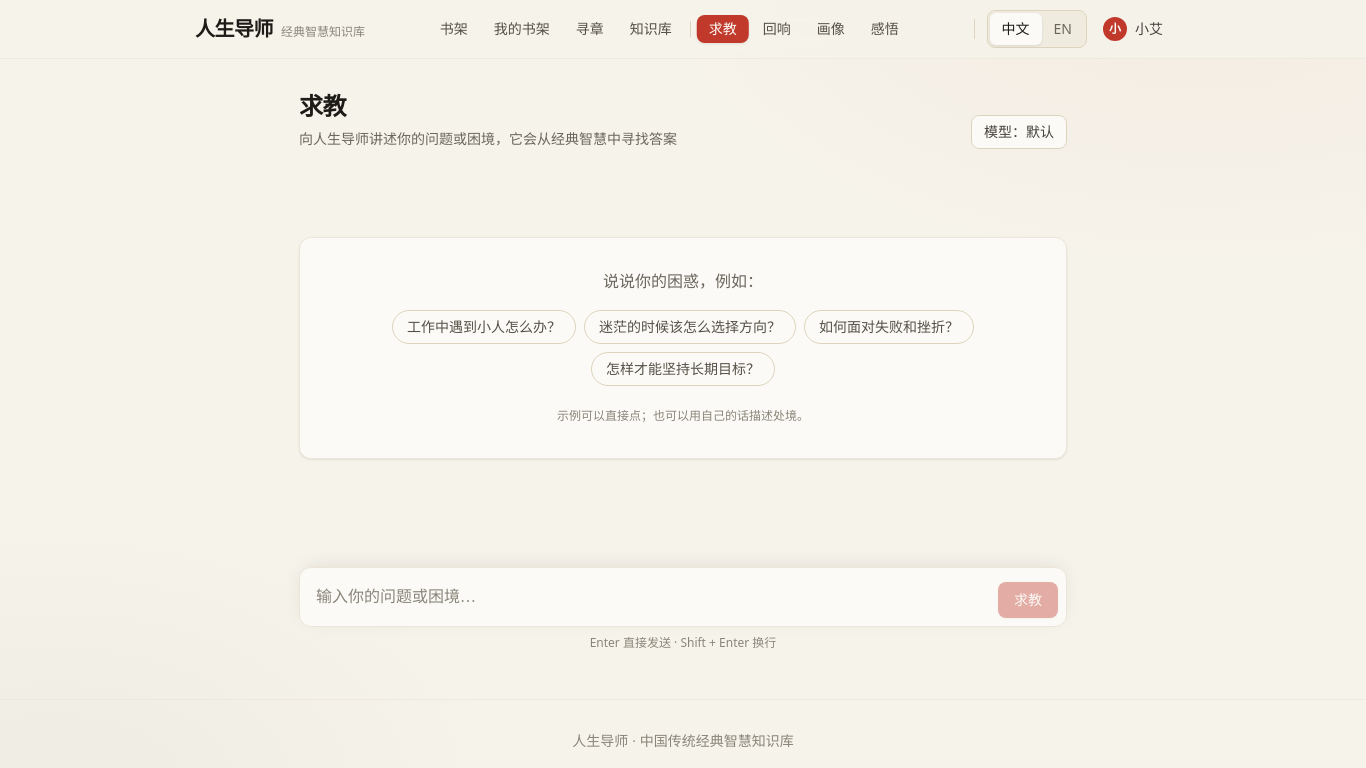
问答流程 › 提问后展示回答
The width and height of the screenshot is (1366, 768).
Type "如何面对挫折" into the text box with placeholder "输入你的问题或困境…".
click(653, 597); type("如何面对挫折")  # box x1=316 y1=576 x2=990 y2=618
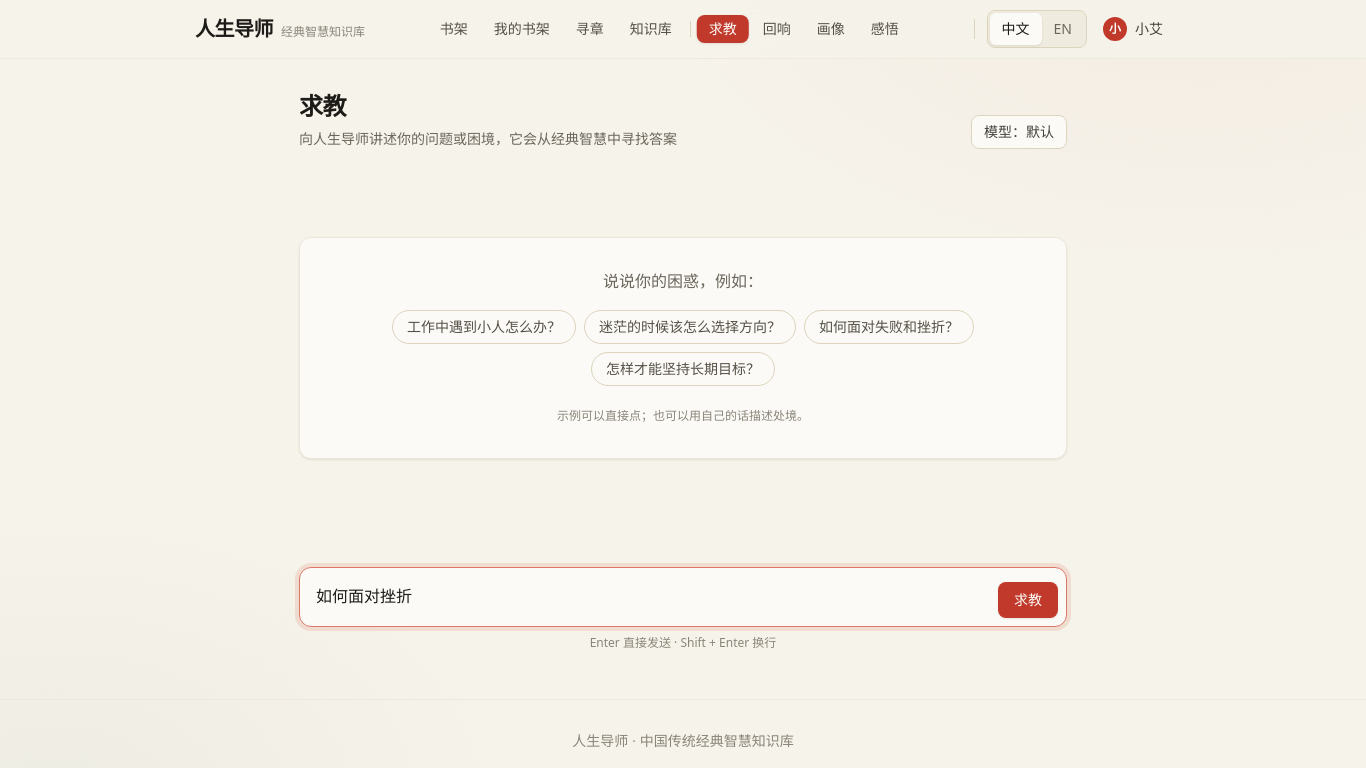
Click the button "求教".
click(1028, 600)  # box x1=998 y1=582 x2=1058 y2=618
(page scrolled)
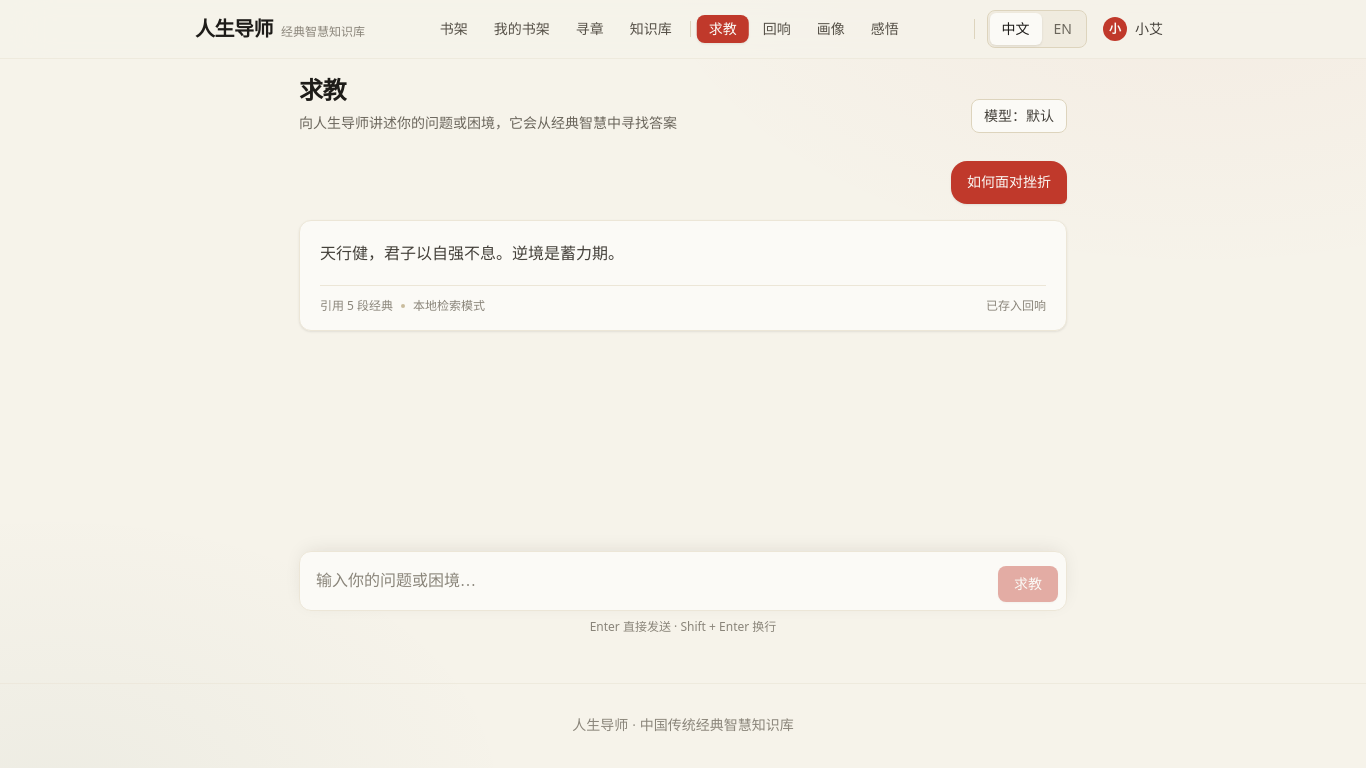
Expected: the text "天行健，君子以自强不息。逆境是蓄力期。" is shown, x1=320 y1=242 x2=624 y2=264
Expected: the text "引用 5 段经典" is shown, x1=320 y1=297 x2=393 y2=314
Expected: the text "本地检索模式" is shown, x1=413 y1=297 x2=485 y2=314
